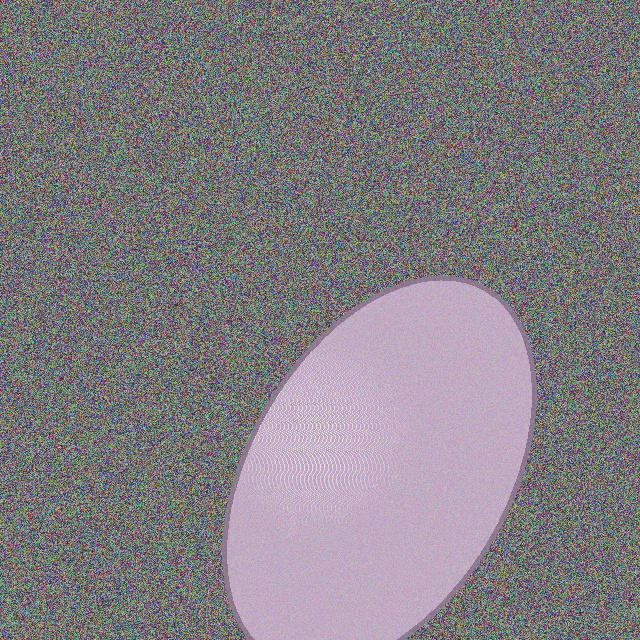lens: (224, 278, 534, 640)
